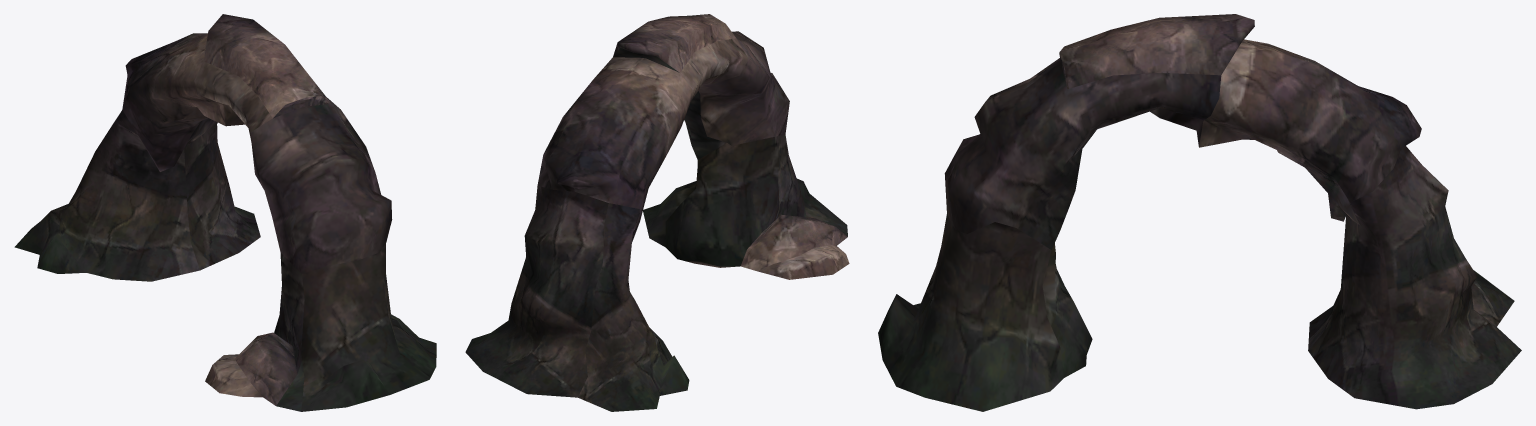
File: S_Rock_Black091.FBX
3 renders of one model, left to right at view 1: azimuth 30°, elevation 25°; view 2: azimuth 150°, elevation 25°; view 3: azimuth 270°, elevation 25°, orthographic. The views are drawn at different scales.
Visible parts, largest first — view 1: S_Rock_Black091; view 2: S_Rock_Black091; view 3: S_Rock_Black091.
Boxes of the visible parts, x1,y1,x2,y2 form: S_Rock_Black091: (14,14,436,411); S_Rock_Black091: (465,14,849,411); S_Rock_Black091: (878,14,1521,411).
Bounding box in the file's own units: 730 × 1504 × 857.
